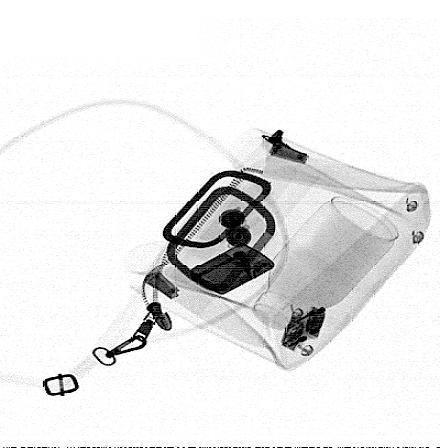Lighter: (189, 241, 275, 296)
